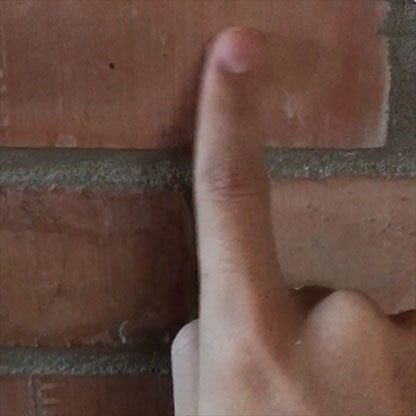fingertip: (199, 19, 270, 88)
